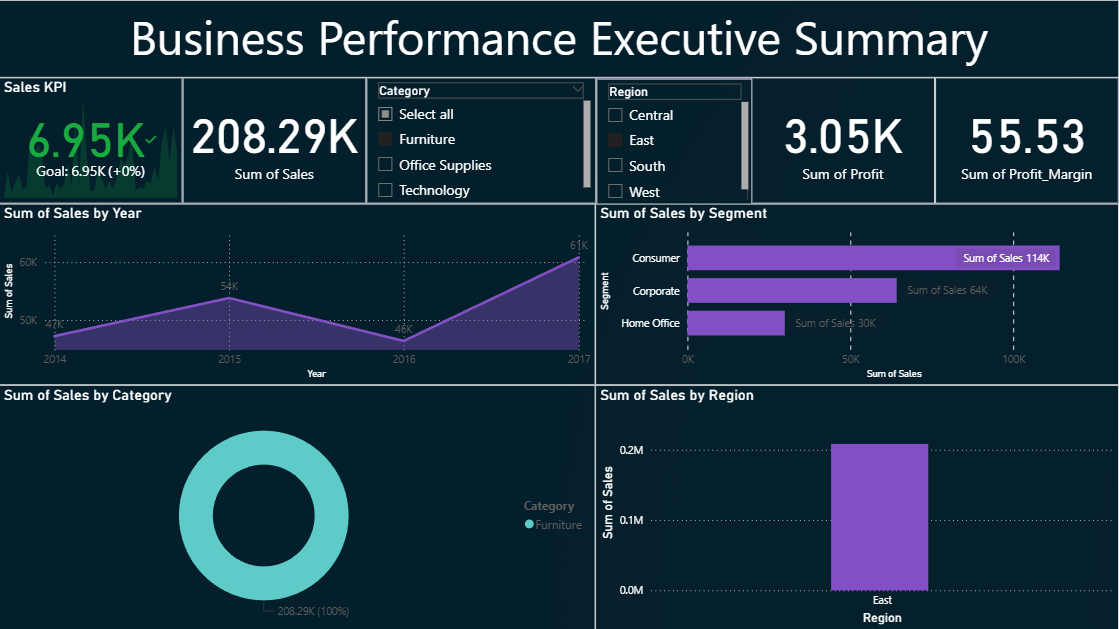

This screenshot's page, from the dashboard's own definition file:
{"tool":"powerbi","page":{"name":"Page 1","canvas":[1280,720],"ordinal":0},"visuals":[{"type":"lineChart","fields":{"Category":["Superstore_clean.MonthYear.Variation.Date Hierarchy.Year","Superstore_clean.MonthYear.Variation.Date Hierarchy.Quarter","Superstore_clean.MonthYear.Variation.Date Hierarchy.Month","Superstore_clean.MonthYear.Variation.Date Hierarchy.Day"],"Y":["Sum(Superstore_clean.Sales)"]},"box":[0,233.3,682,207.2],"z":0},{"type":"clusteredColumnChart","fields":{"Category":["Superstore_clean.Region"],"Y":["Sum(Superstore_clean.Sales)"]},"box":[682,440.5,598.3,279.9],"z":1000},{"type":"donutChart","fields":{"Category":["Superstore_clean.Category"],"Y":["Sum(Superstore_clean.Sales)"]},"box":[0,440.5,682,279.9],"z":2000},{"type":"kpi","title":"Sales KPI","fields":{"Indicator":["Sum(Superstore_clean.Sales)"],"TrendLine":["Superstore_clean.YearMonth"],"Goal":["Sum(Superstore_clean.Sales)"]},"box":[0,89.2,209.9,144.1],"z":3000},{"type":"slicer","fields":{"Values":["Superstore_clean.Region"]},"box":[682.9,89.6,179.1,144.3],"z":4000},{"type":"slicer","fields":{"Values":["Superstore_clean.Category"]},"box":[419.9,89.2,262.1,144.1],"z":5000},{"type":"card","fields":{"Values":["Sum(Superstore_clean.Sales)"]},"box":[209.9,89.2,209.9,144.1],"z":6000},{"type":"card","fields":{"Values":["Sum(Superstore_clean.Profit)"]},"box":[860.4,89.2,209.9,144.1],"z":7000},{"type":"card","fields":{"Values":["Sum(Superstore_clean.Profit_Margin)"]},"box":[1070.3,89.2,209.9,144.1],"z":8000},{"type":"clusteredBarChart","fields":{"Category":["Superstore_clean.Segment"],"Y":["Sum(Superstore_clean.Sales)"]},"box":[682,233.3,598.3,207.2],"z":9000},{"type":"textbox","box":[0,0,1280.3,89.2],"z":10000}]}

Visuals, with their boxes in screenshot pixels (x1, y1, x2, y2), scaled from the page's 1280x720 canvas onto the 1119x629 screenshot:
lineChart - Superstore_clean.MonthYear.Variation.Date Hierarchy.Year x Superstore_clean.MonthYear.Variation.Date Hierarchy.Quarter: 0:204:596:385
clusteredColumnChart - Superstore_clean.Region x Sum(Superstore_clean.Sales): 596:385:1118:628
donutChart - Superstore_clean.Category x Sum(Superstore_clean.Sales): 0:385:596:628
"Sales KPI" kpi: 0:78:183:204
slicer - Superstore_clean.Region: 597:78:754:204
slicer - Superstore_clean.Category: 367:78:596:204
card - Sum(Superstore_clean.Sales): 183:78:367:204
card - Sum(Superstore_clean.Profit): 752:78:936:204
card - Sum(Superstore_clean.Profit_Margin): 936:78:1118:204
clusteredBarChart - Superstore_clean.Segment x Sum(Superstore_clean.Sales): 596:204:1118:385
textbox: 0:0:1118:78
